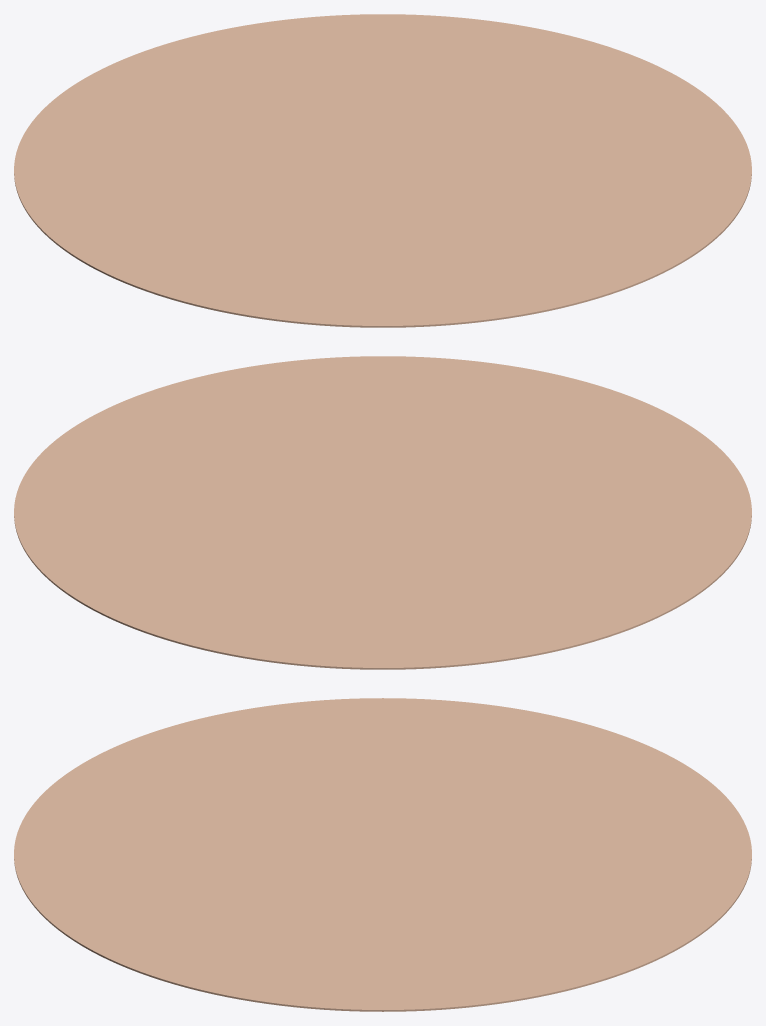
Rendered from p-wafer.glb.
The picture shows the model from 3 angles, top to bottom: view 1: azimuth 30°, elevation 25°; view 2: azimuth 150°, elevation 25°; view 3: azimuth 270°, elevation 25°; orthographic projection.
Visible parts, largest first — view 1: wafer; view 2: wafer; view 3: wafer.
Boxes of the visible parts, box(x1,y1,x2,y2) form: wafer: box(14, 14, 751, 327); wafer: box(14, 356, 751, 669); wafer: box(14, 698, 751, 1011).
Size of the model in its own units: 0.3 by 0.000775 by 0.2999.
